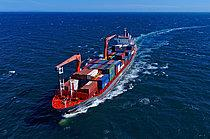Ship: (51, 25, 144, 121)
